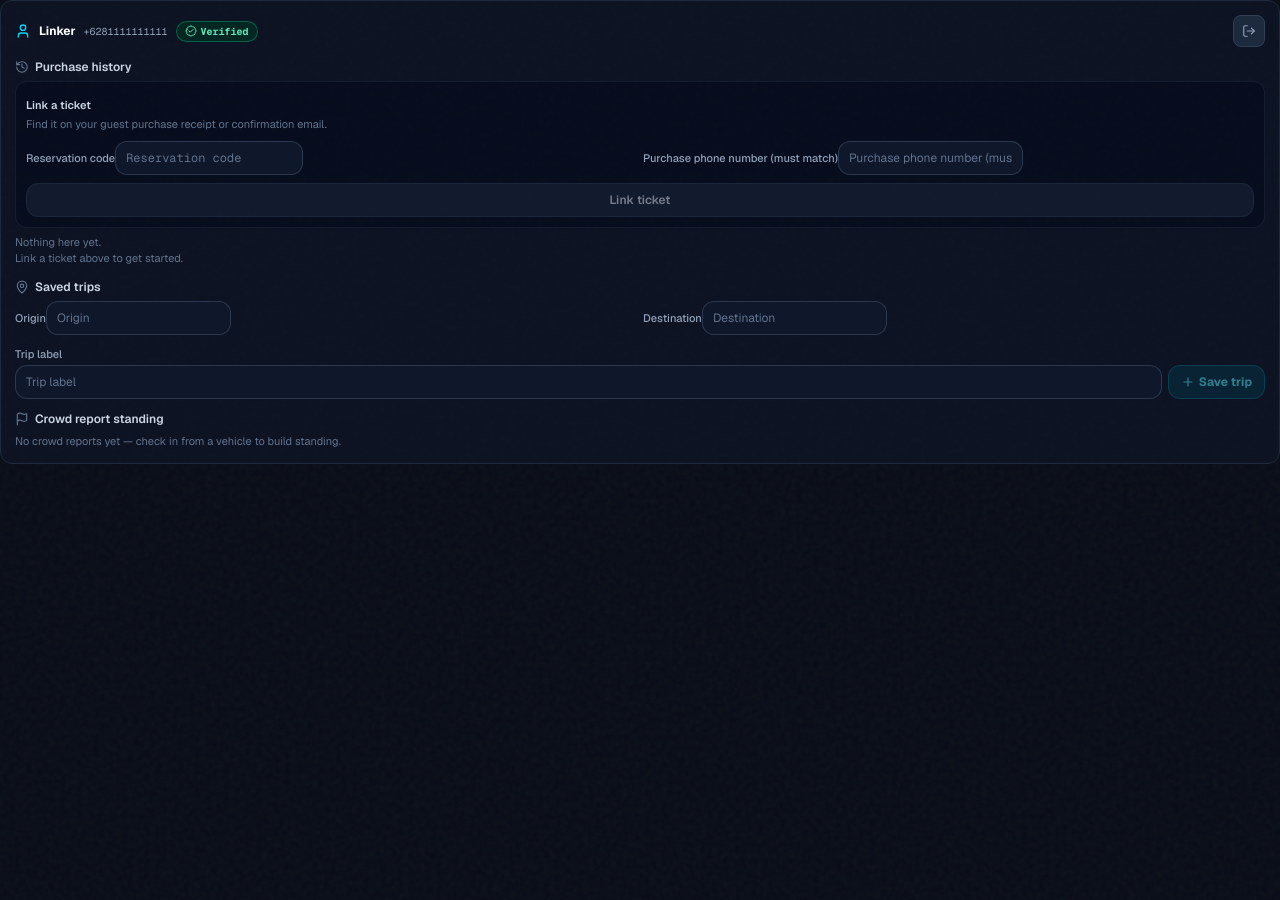
Test: scoped link errors › renders the link error beside the link button and moves focus to it
Expected: the text "Purchase history" is shown, [15,59,132,75]
Step 1. Type "LNK007" into the field labelled "Reservation code" → (209, 158), box [115,140,303,174]
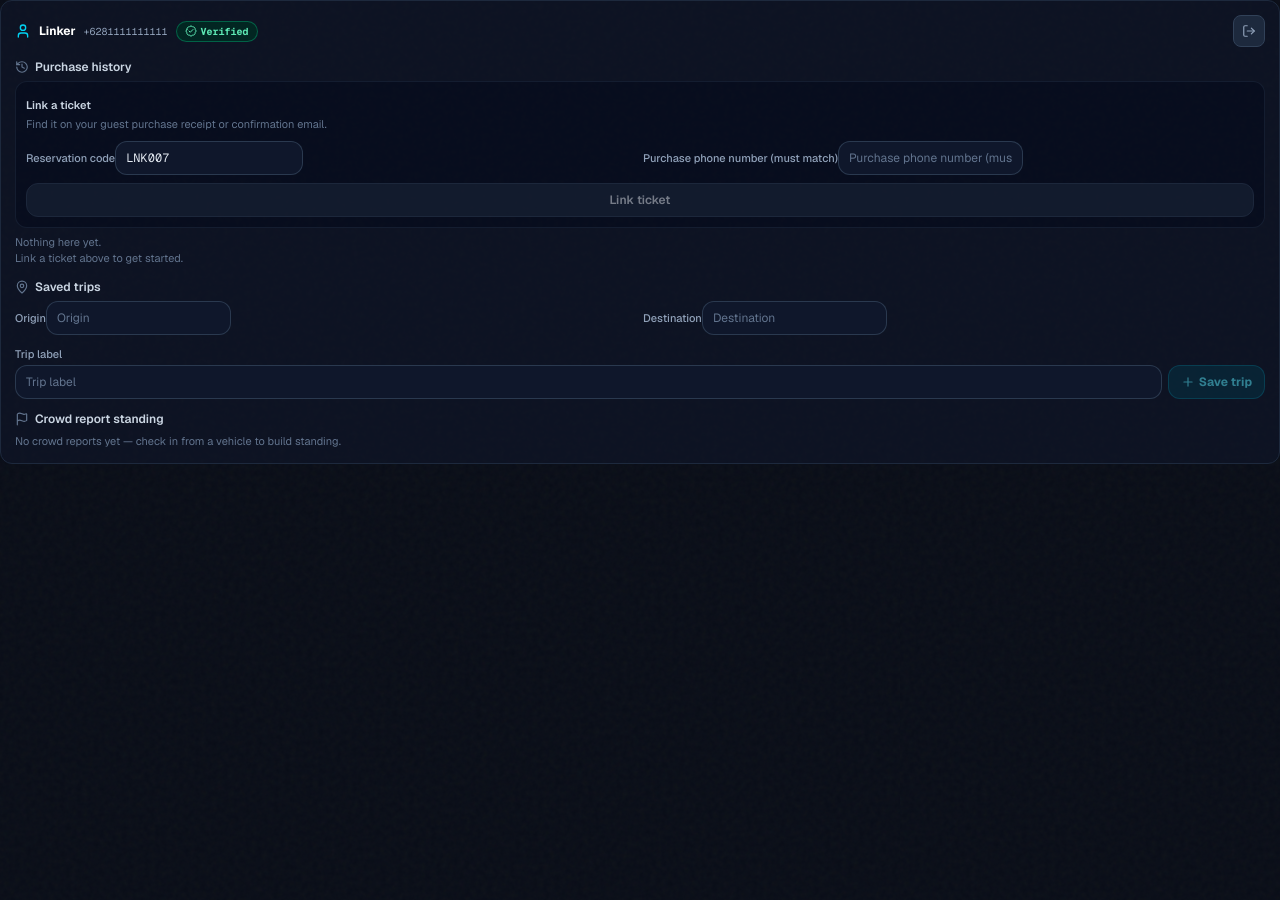
Step 2. Type "+6281111111111" into the field labelled "Purchase phone number (must match)" → (930, 158), box [838,140,1023,174]
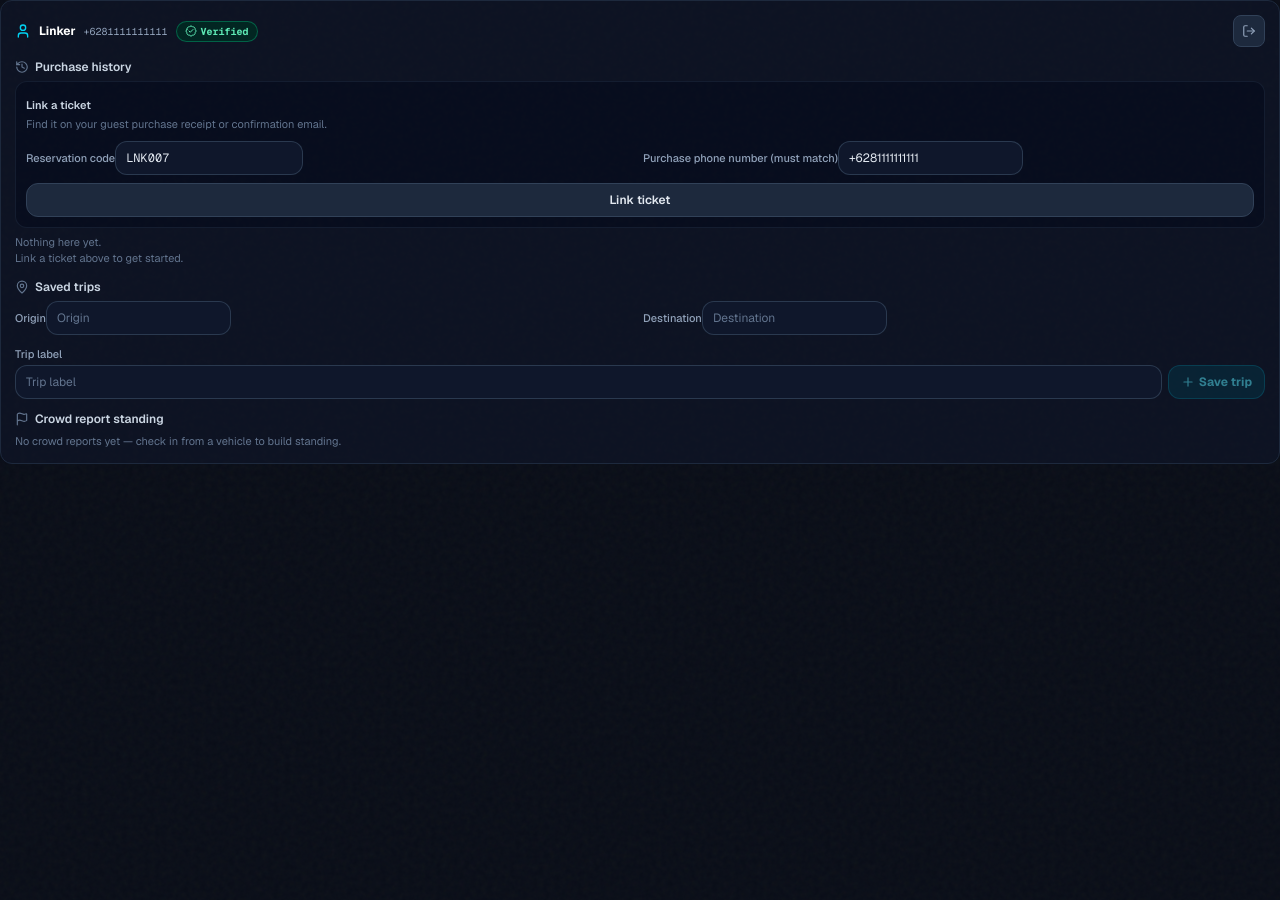
Step 3. Click the button "Link ticket" → (640, 200), box [26,182,1254,216]
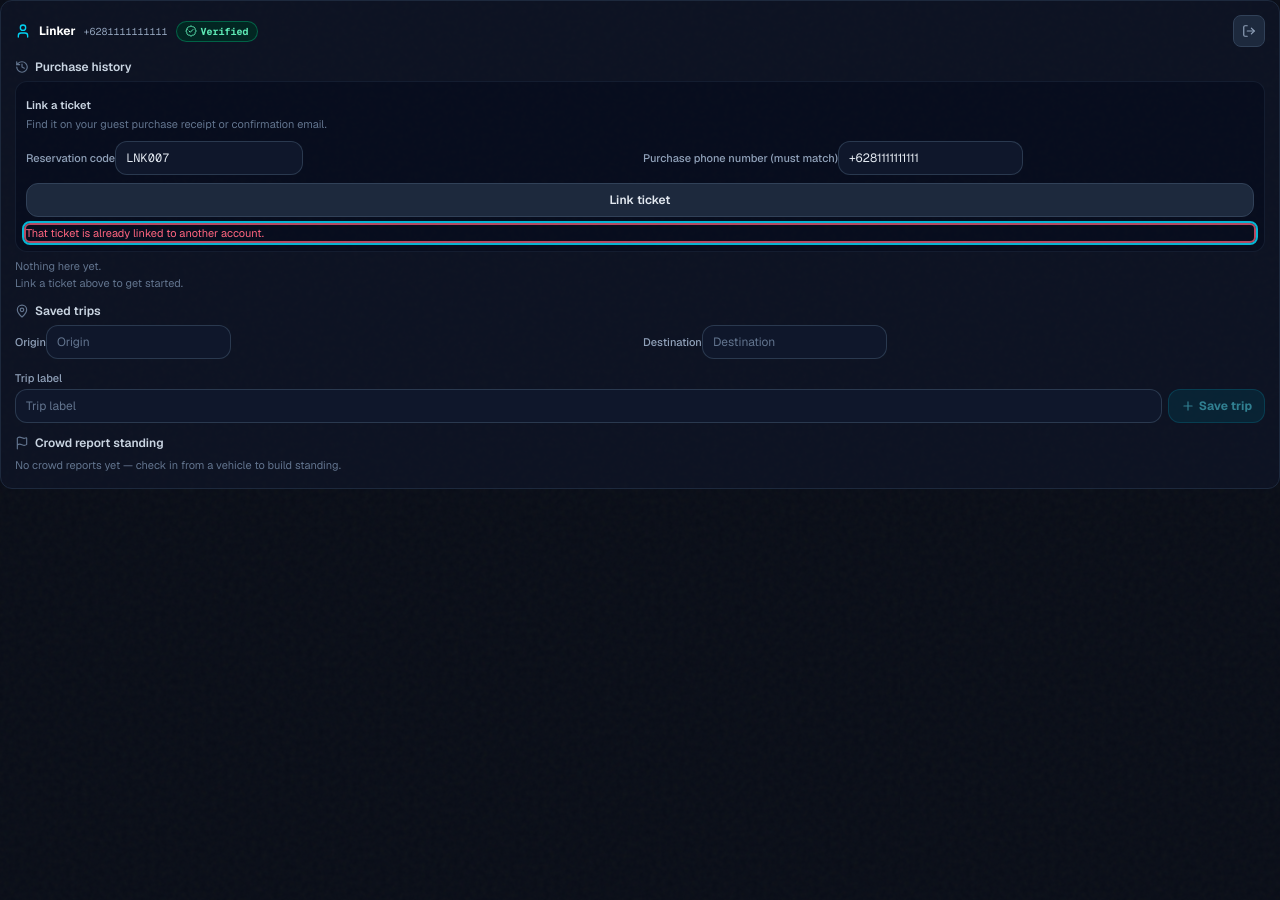
Now the number of messages is 1, box [26,224,1254,241]
Now the message shows "already linked", box [26,226,264,240]
